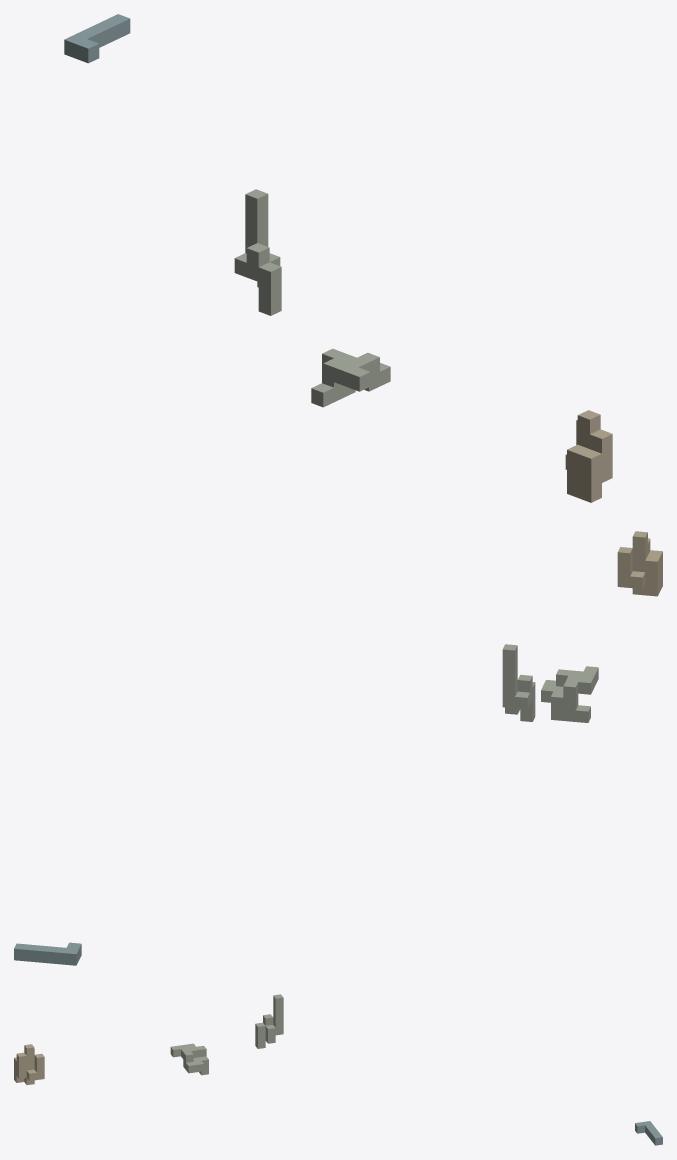
The picture shows the model from 3 angles, top to bottom: view 1: azimuth 30°, elevation 25°; view 2: azimuth 150°, elevation 25°; view 3: azimuth 270°, elevation 25°; orthographic projection. The views are drawn at different scales.
Parts seen in each view (by area): view 1: measured-industrial; view 2: measured-industrial; view 3: measured-industrial.
Boxes of the visible parts, box(x1,y1,x2,y2) form: measured-industrial: box(64, 14, 612, 502); measured-industrial: box(14, 531, 662, 965); measured-industrial: box(14, 994, 662, 1145).
Bounding box in the file's own units: 19.42 × 11.99 × 79.98.
